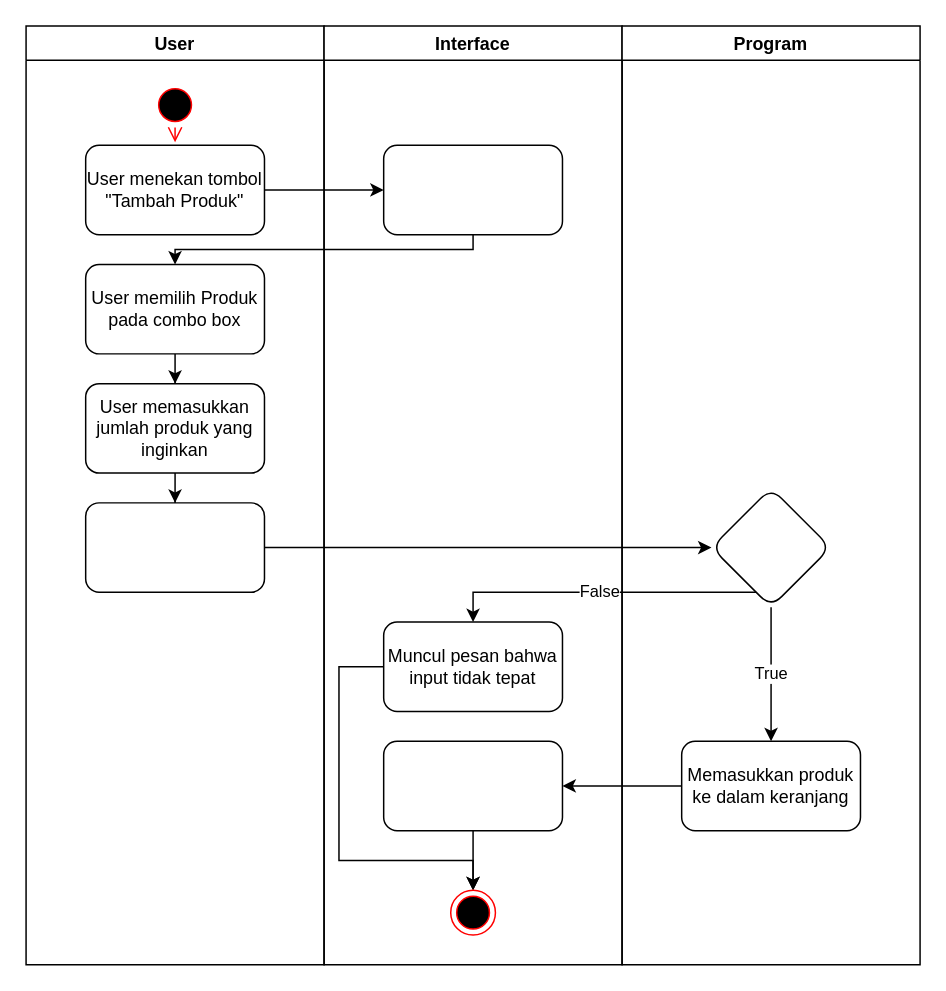
The diagram is 946 pixels wide and 991 high, and some of its shapes have lost their labels. The shapes that lost their labels are listed below. From the top down, each one's centre as x and y in pixels, then its label:
pixel 472 189: Program menampilkan tampilan "Tambah Produk"
pixel 174 546: User menekan tombol "Masukkan ke Keranjang"
pixel 770 546: Validasi input
pixel 472 785: Muncul pesan berhasil
